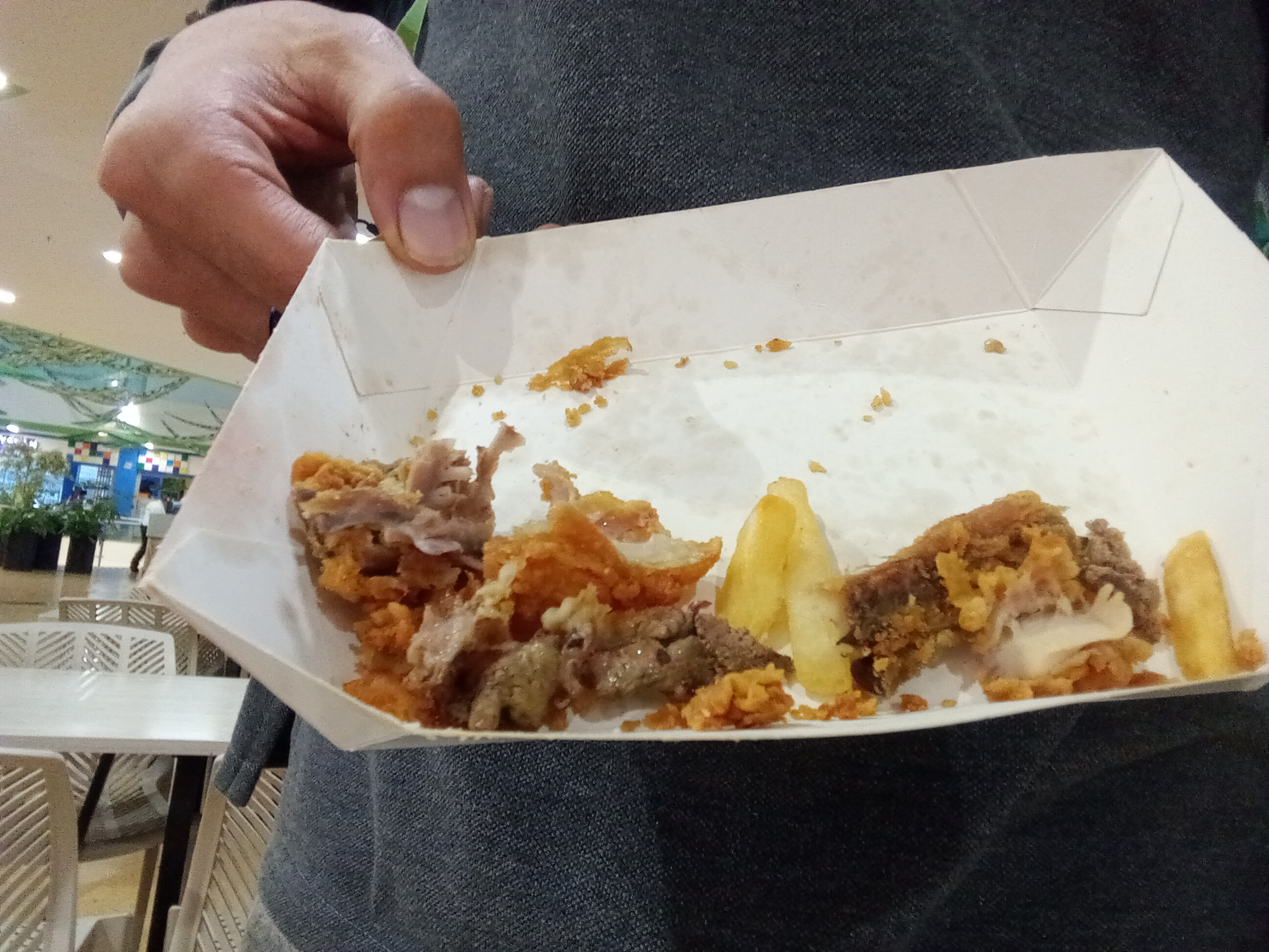Organico: (293, 426, 1265, 738)
